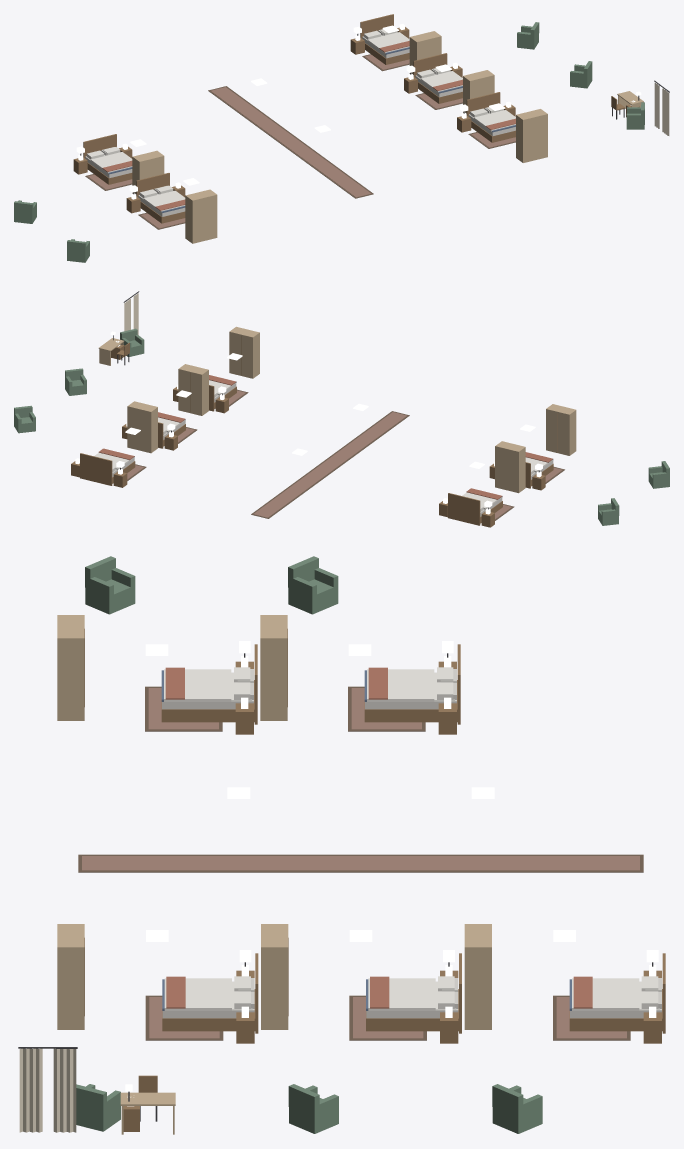
File: fine-s1.glb
The picture shows the model from 3 angles, top to bottom: view 1: azimuth 30°, elevation 25°; view 2: azimuth 150°, elevation 25°; view 3: azimuth 270°, elevation 25°; orthographic projection. The views are drawn at different scales.
Parts seen in each view (by area): view 1: soft-s1, dresser.001, dresser.004, bed-frame.001, bed-frame.000, bed-frame.003, bed-frame.004, bed-frame.002, dresser.000, dresser.002, dresser.003, lounge-chair.003 (+4 smaller); view 2: soft-s1, dresser.000, dresser.001, dresser.003, dresser.002, dresser.004, bed-frame.002, bed-frame.000, lounge-chair.003, lounge-chair.002, lounge-chair.001, lounge-chair.000 (+2 smaller); view 3: soft-s1, dresser.000, dresser.001, dresser.002, dresser.003, dresser.004, lounge-chair.000, lounge-chair.001, bed-frame.004, bed-frame.002, bed-frame.000, bed-frame.001 (+5 smaller).
Boxes of the visible parts, x1,y1,x2,y2 form: soft-s1: (76, 26, 669, 229); dresser.001: (185, 189, 217, 243); dresser.004: (516, 109, 547, 162); bed-frame.001: (136, 173, 185, 223); bed-frame.000: (83, 134, 132, 184); bed-frame.003: (413, 53, 462, 103); bed-frame.004: (466, 92, 515, 142); bed-frame.002: (360, 14, 409, 64); dresser.000: (132, 150, 164, 193); dresser.002: (409, 31, 441, 74); dresser.003: (463, 70, 494, 113); lounge-chair.003: (570, 61, 592, 88); soft-s1: (94, 291, 564, 520); dresser.000: (495, 441, 525, 493); dresser.001: (546, 404, 576, 455); dresser.003: (178, 364, 208, 415); dresser.002: (127, 401, 157, 453); dresser.004: (229, 326, 259, 378); bed-frame.002: (80, 453, 135, 485); bed-frame.000: (448, 493, 502, 525); lounge-chair.003: (65, 368, 86, 395); lounge-chair.002: (14, 405, 35, 433); lounge-chair.001: (648, 461, 669, 488); lounge-chair.000: (598, 498, 619, 525); soft-s1: (18, 641, 659, 1132); dresser.000: (260, 615, 287, 720); dresser.001: (57, 615, 84, 720); dresser.002: (464, 924, 491, 1029); dresser.003: (261, 924, 288, 1029); dresser.004: (57, 924, 84, 1029); lounge-chair.000: (288, 556, 338, 614); lounge-chair.001: (85, 556, 135, 614); bed-frame.004: (162, 953, 258, 1033); bed-frame.002: (569, 953, 665, 1033); bed-frame.000: (364, 644, 460, 724); bed-frame.001: (161, 644, 257, 724).
Size of the model in its own units: 28.09 by 2.11 by 14.18.
